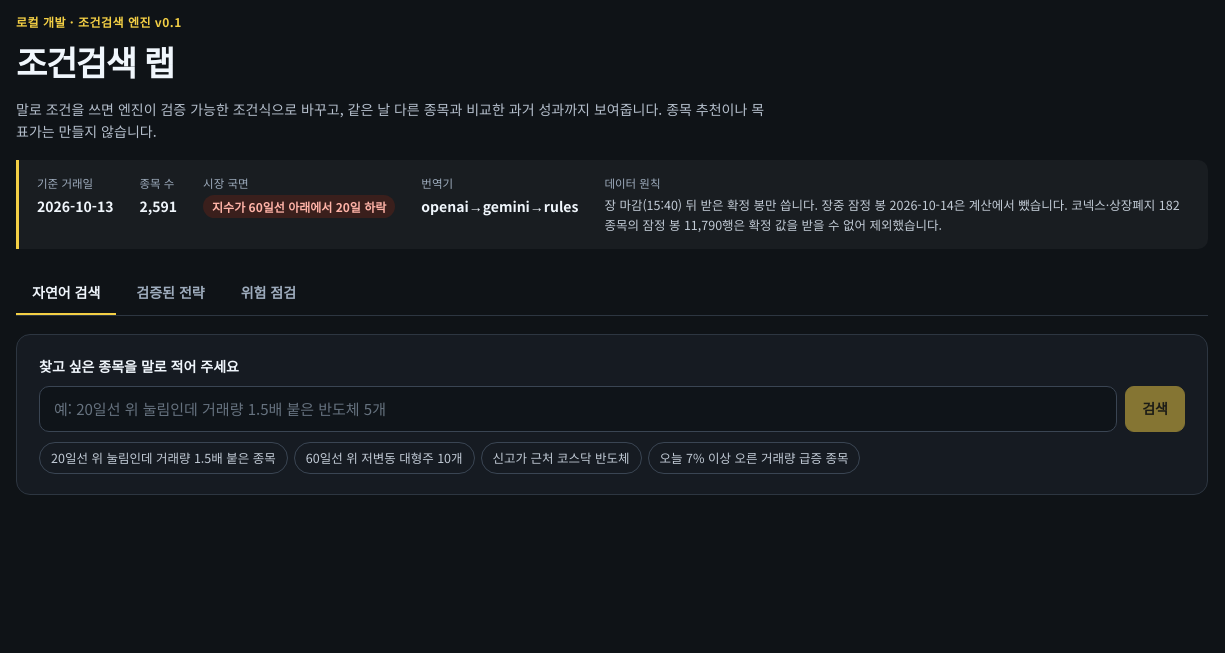
condition lab › checks risk for typed codes and reports unknown ones
Check: the text "지수가 60일선 아래에서 20일 하락" is shown, box [203,195,395,218]
Click the tab "위험 점검". click: (268, 293)
box: [225,271,312,315]
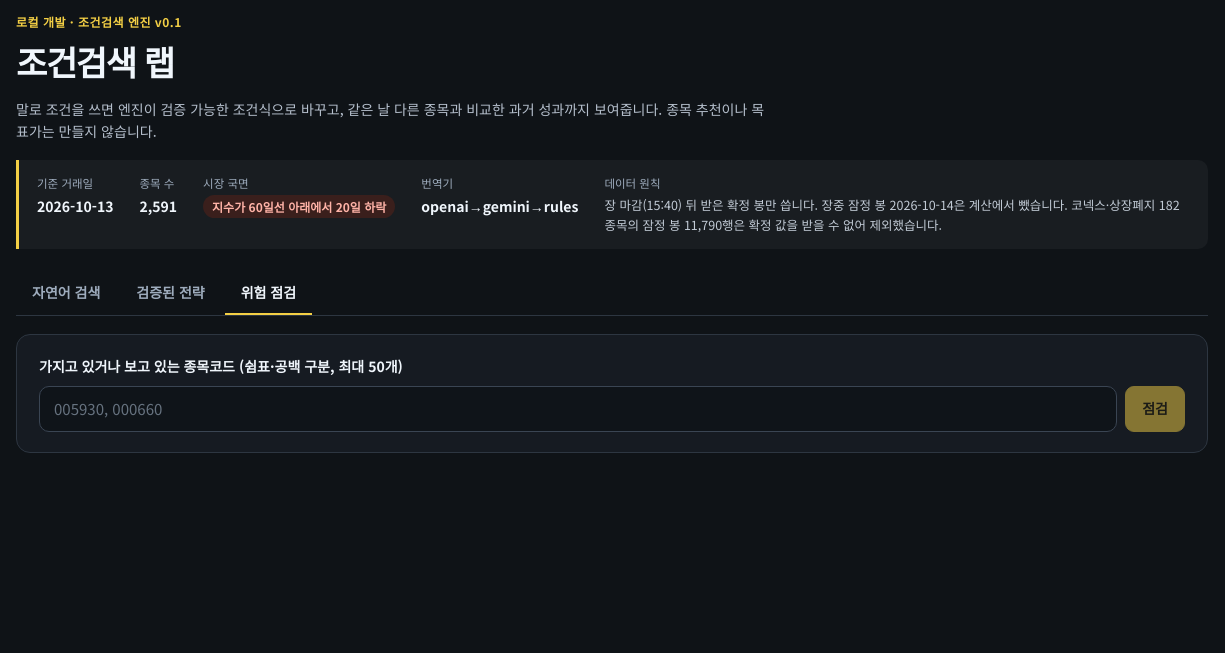
Type "005930, 999999 005930" into the field labelled "가지고 있거나 보고 있는 종목코드 (쉼표·공백 구분, 최대 50개)". click: (578, 408)
box: [39,386,1117,432]
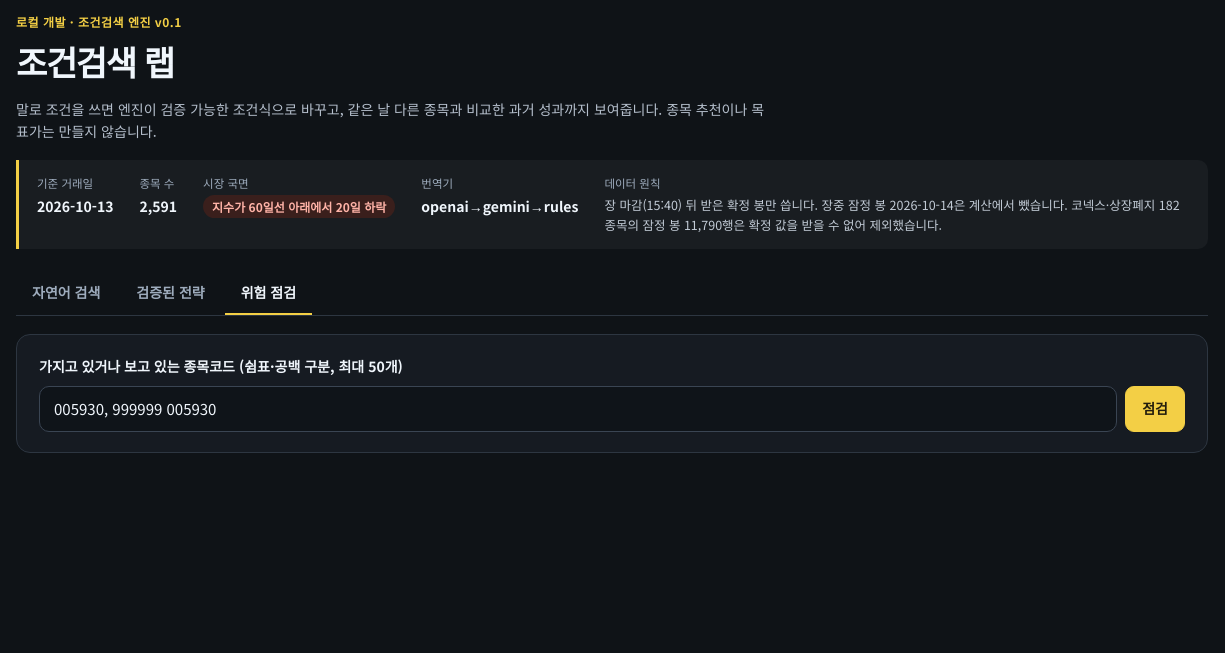
Click the button "점검". click: (1155, 408)
box: [1125,386,1185,432]
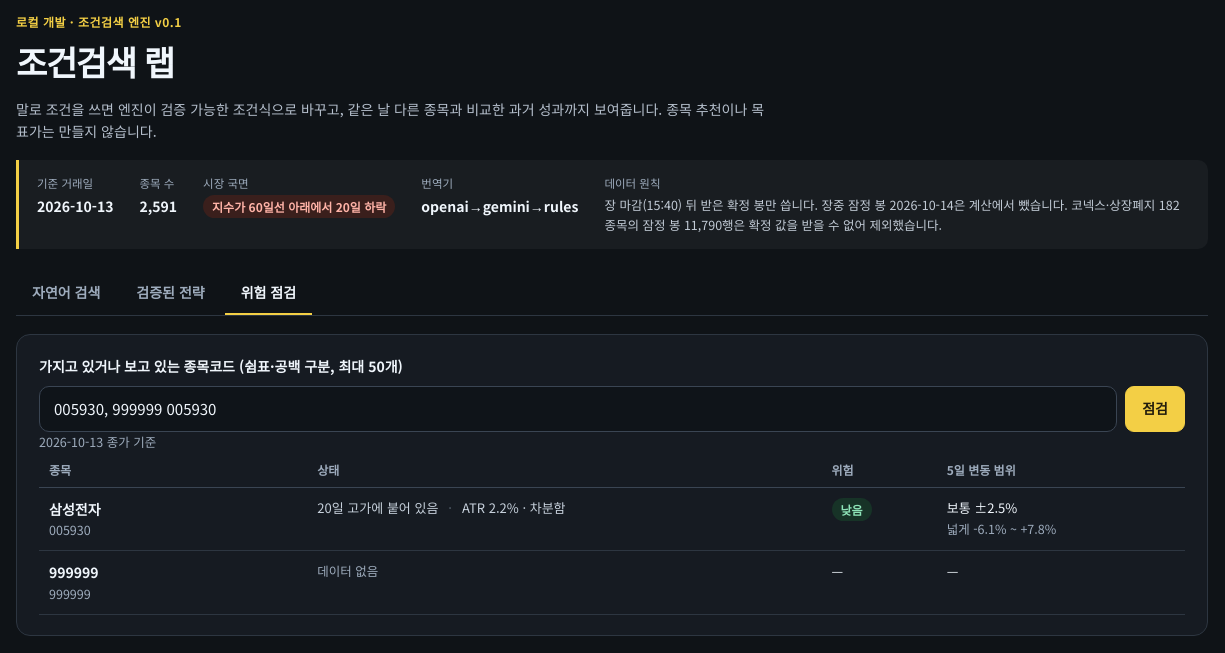
Check: the text "삼성전자" is shown, box [49,499,100,519]
Check: the text "데이터 없음" is shown, box [317,561,378,580]
